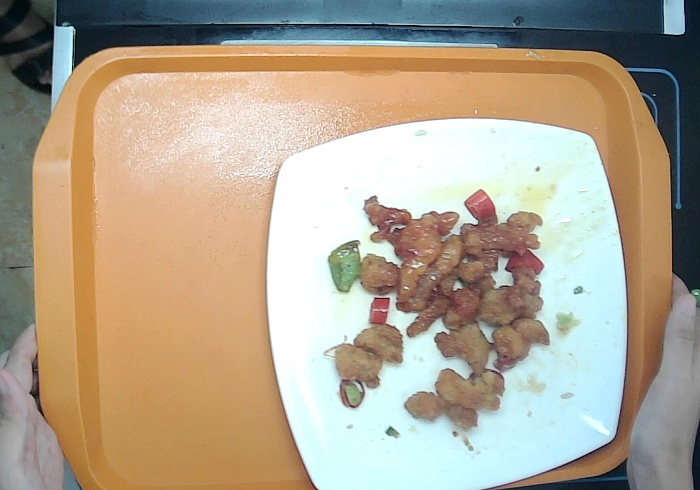ZNLD-Bai_Fang_Pan: (265, 116, 628, 490)
